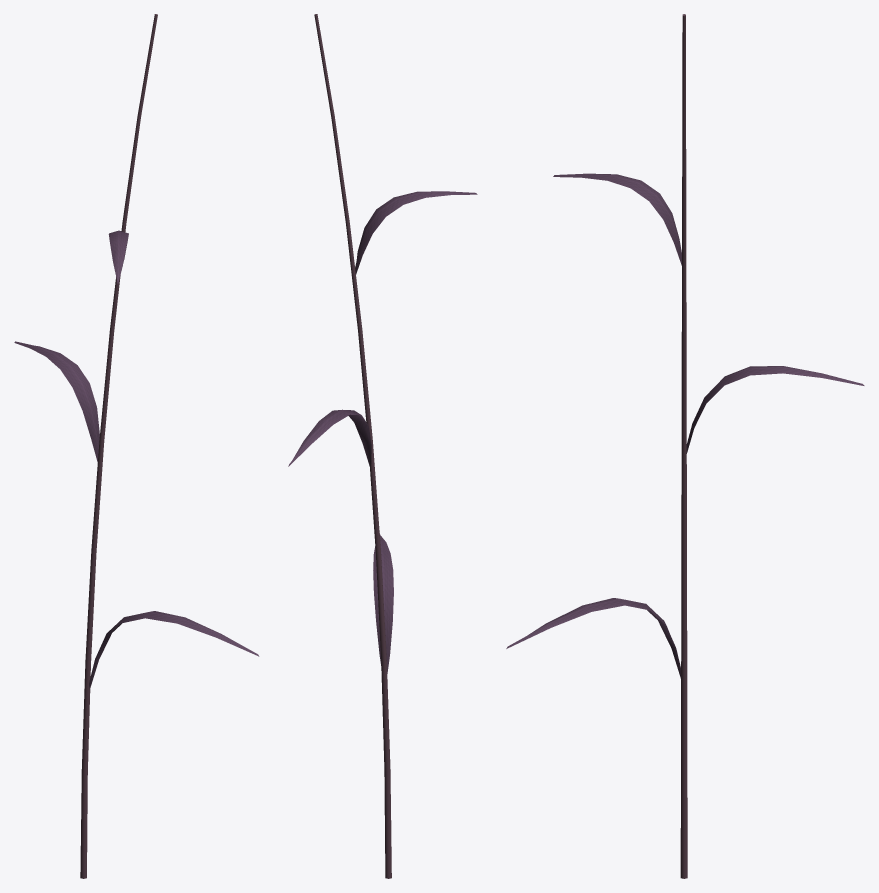
The model's file is single_stem_09.glb.
3 renders of one model, left to right at view 1: azimuth 30°, elevation 25°; view 2: azimuth 150°, elevation 25°; view 3: azimuth 270°, elevation 25°, orthographic. The views are drawn at different scales.
Visible parts, largest first — view 1: export; view 2: export; view 3: export.
Part boxes in pixels (x1,y1,x2,y2): export: (14,14,259,878); export: (288,14,477,878); export: (506,14,864,878).
Size of the model in its own units: 0.1483 by 1 by 0.3614.
2 materials, 2 textured.
